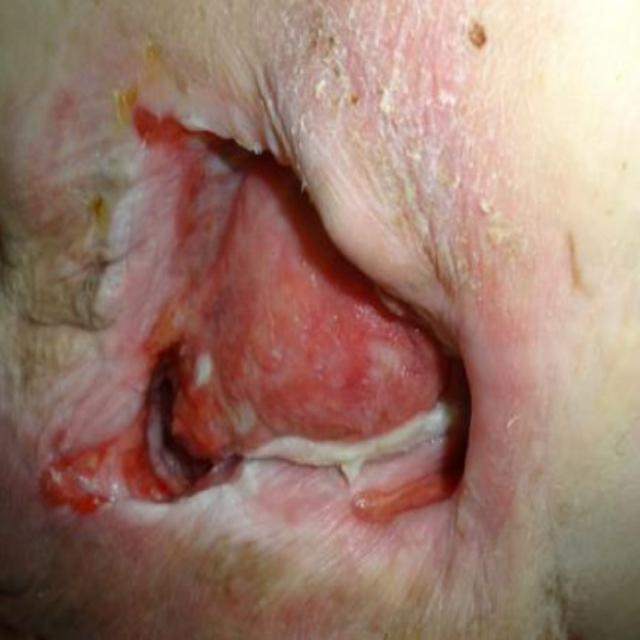stage-4: (16, 108, 469, 520)
